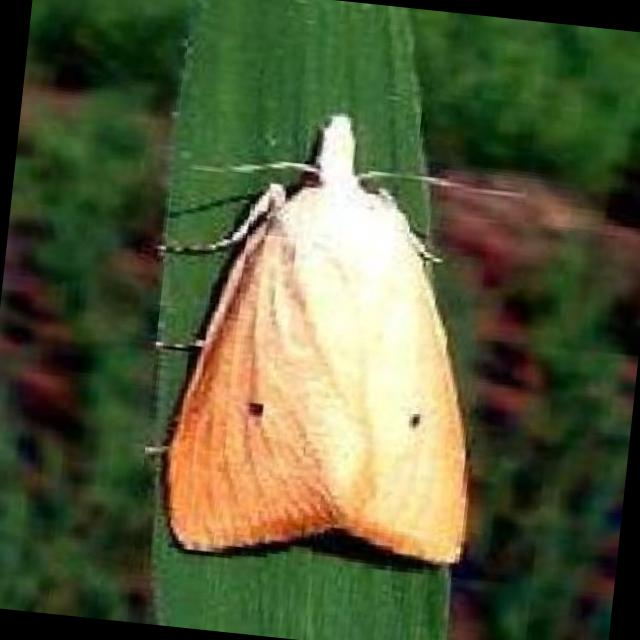stem-borer: (152, 104, 473, 564)
